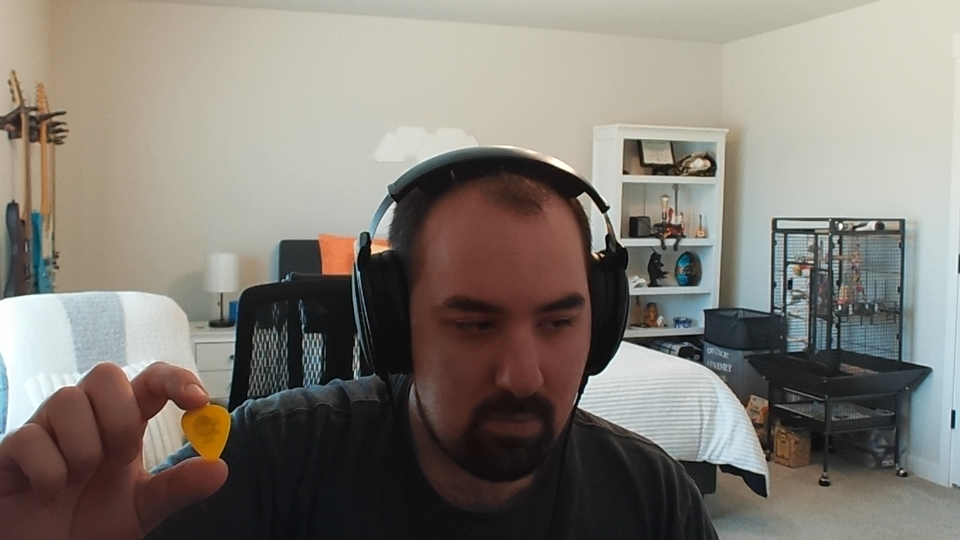GuitarPick: (179, 403, 231, 460)
